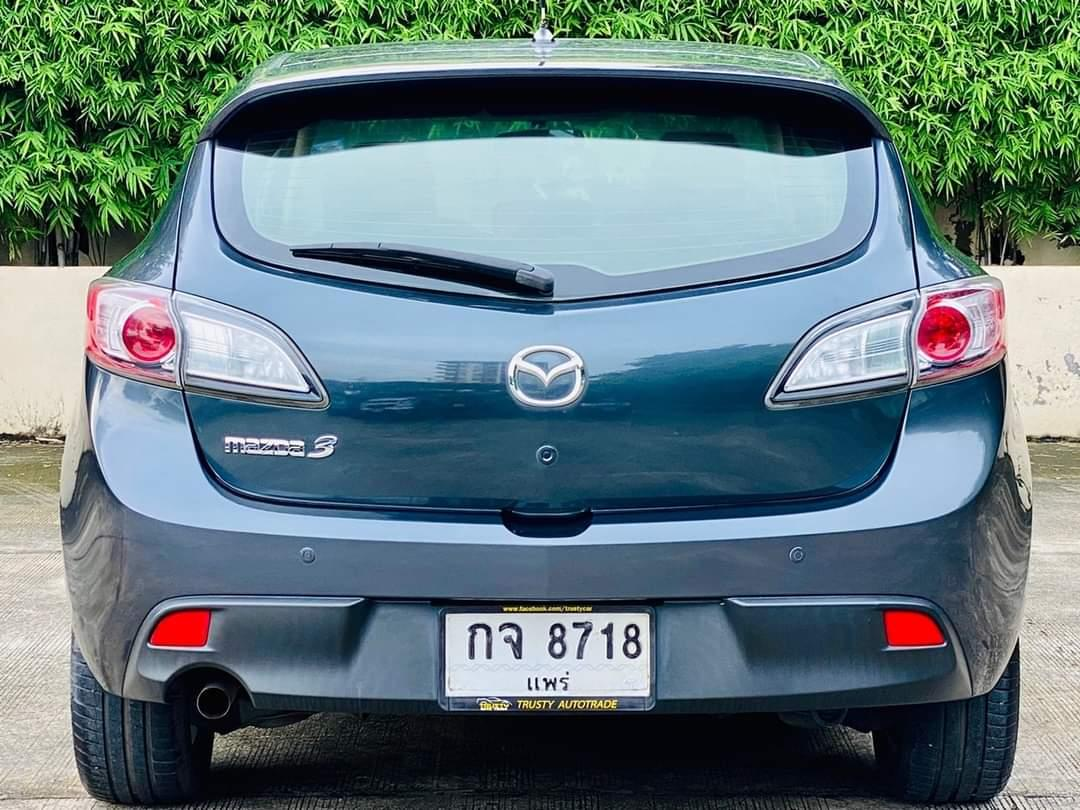license-plate: (439, 603, 656, 714)
